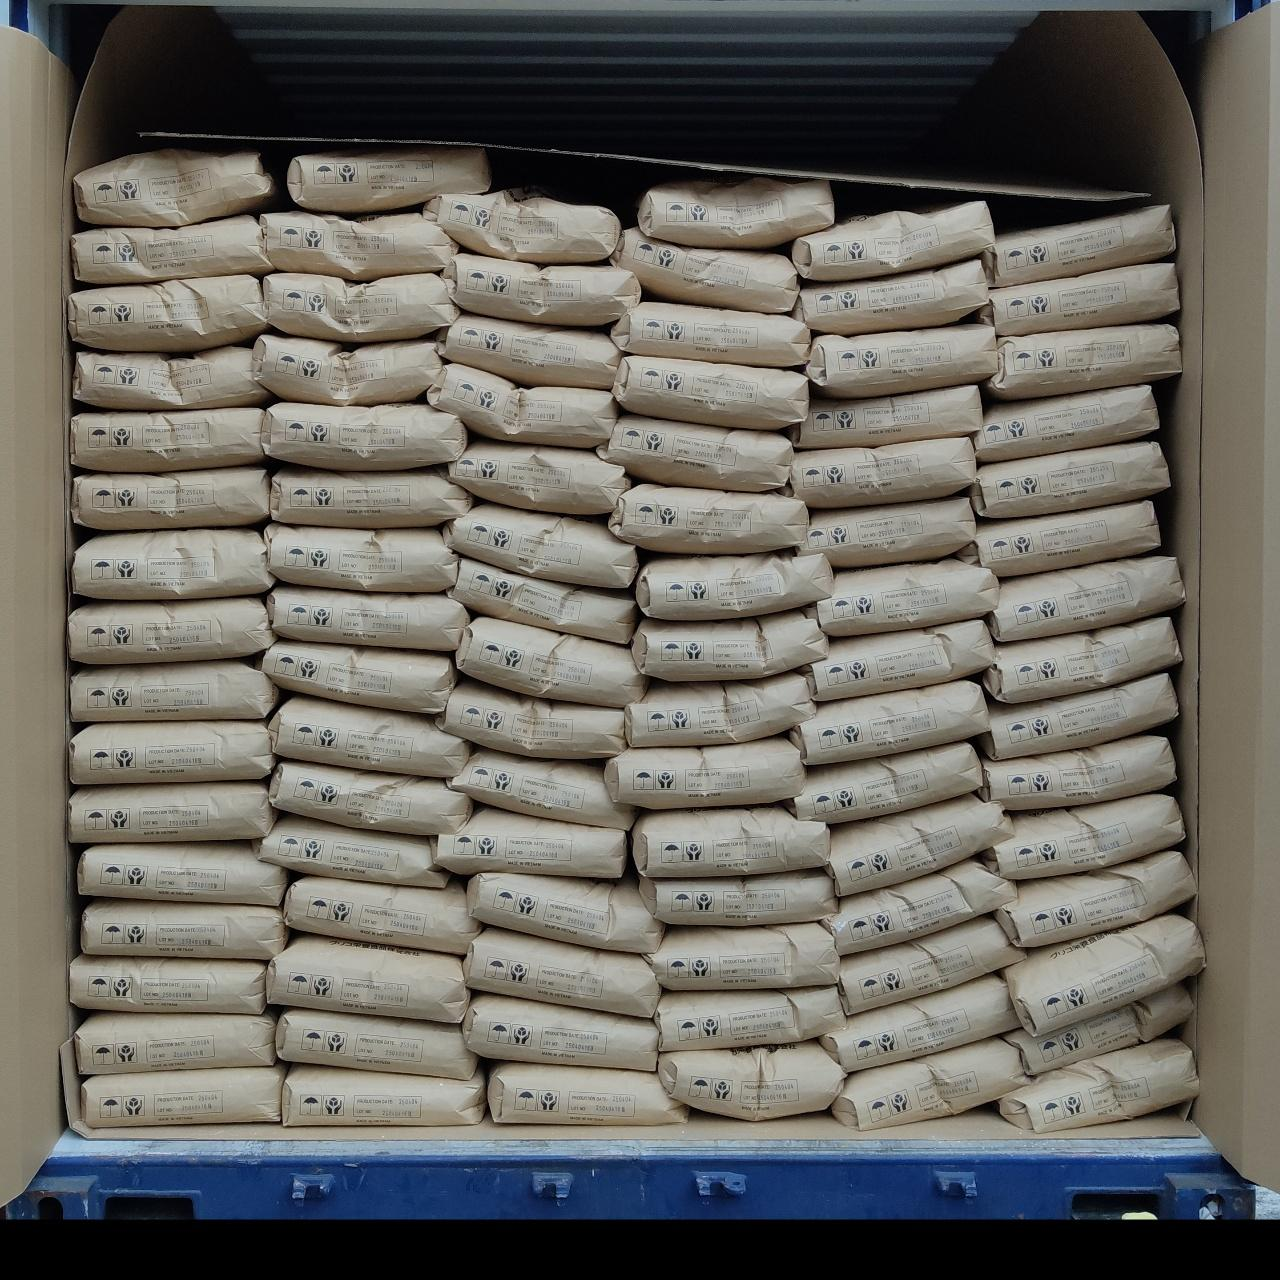sack: (1004, 914, 1202, 1030), (1000, 1038, 1196, 1134), (996, 852, 1194, 946), (822, 976, 1016, 1070), (268, 934, 468, 1022), (840, 916, 1022, 1012), (828, 796, 1006, 894), (1004, 983, 1192, 1074), (824, 860, 1014, 950), (834, 1038, 1026, 1126), (984, 794, 1182, 878), (466, 928, 658, 1014), (978, 674, 1174, 758), (984, 618, 1178, 702), (456, 618, 644, 702), (792, 680, 982, 762), (614, 226, 798, 310), (272, 696, 470, 774), (428, 364, 614, 446), (450, 560, 636, 642), (992, 558, 1182, 638), (446, 504, 636, 582), (984, 208, 1174, 286), (468, 874, 662, 950), (76, 152, 280, 224), (790, 744, 978, 822), (792, 204, 990, 278), (970, 442, 1166, 516), (70, 276, 266, 350), (464, 994, 654, 1070), (450, 748, 630, 828), (984, 324, 1178, 398), (286, 876, 478, 950), (808, 620, 990, 698), (658, 1042, 844, 1118), (600, 414, 790, 488), (796, 260, 986, 334), (442, 680, 622, 758), (976, 264, 1176, 334), (962, 502, 1156, 574), (272, 762, 470, 832), (426, 190, 618, 262), (614, 356, 806, 428), (278, 1008, 474, 1078), (980, 736, 1174, 806), (974, 386, 1156, 460), (814, 560, 996, 634), (262, 640, 454, 710), (446, 254, 638, 324), (634, 806, 826, 876), (74, 530, 270, 598), (606, 738, 802, 806), (436, 806, 626, 876), (640, 176, 830, 246), (808, 326, 996, 396), (266, 402, 464, 468), (626, 674, 812, 744), (258, 816, 444, 886), (448, 440, 628, 512), (438, 314, 618, 386), (74, 216, 270, 282), (634, 610, 824, 678), (264, 274, 454, 342), (612, 484, 806, 550), (70, 598, 270, 662), (262, 212, 454, 278), (254, 336, 438, 404), (612, 302, 806, 366), (636, 552, 830, 616), (266, 524, 454, 590), (288, 150, 488, 212), (80, 842, 286, 902), (648, 924, 838, 988), (268, 586, 464, 648), (72, 722, 272, 782), (284, 1064, 484, 1124), (68, 782, 274, 840), (272, 466, 470, 526), (82, 900, 286, 958), (800, 498, 974, 566), (72, 408, 262, 470), (790, 440, 974, 504), (76, 346, 270, 406), (72, 662, 278, 718), (656, 988, 842, 1050), (84, 1066, 282, 1124), (792, 386, 980, 446), (74, 468, 268, 526), (78, 1012, 272, 1070), (490, 1064, 684, 1122), (72, 956, 262, 1012), (640, 870, 834, 924)
